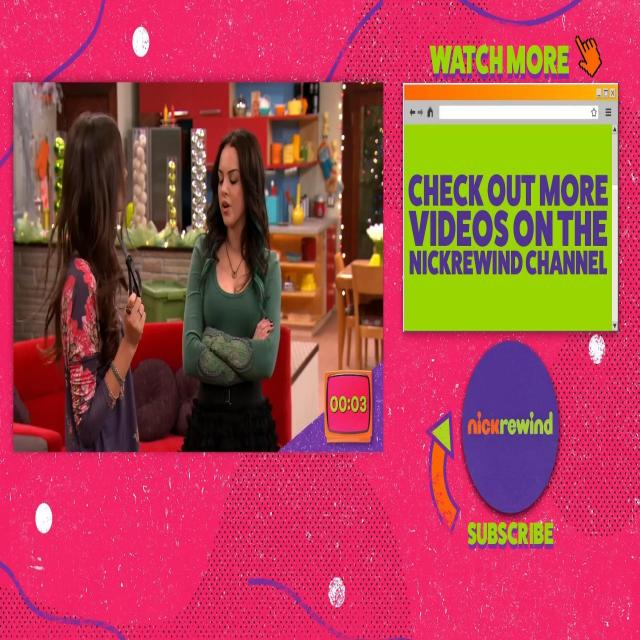scissor: (114, 226, 142, 302)
